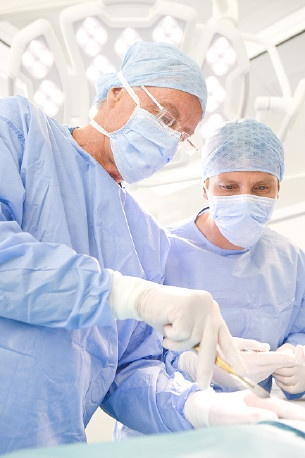Mask: (95, 92, 189, 187)
